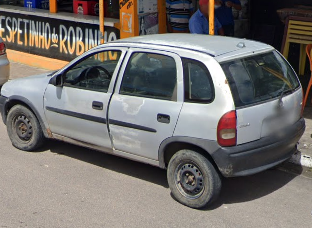car: (1, 32, 304, 206)
